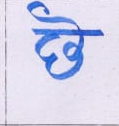e_matra: (26, 1, 87, 29)
